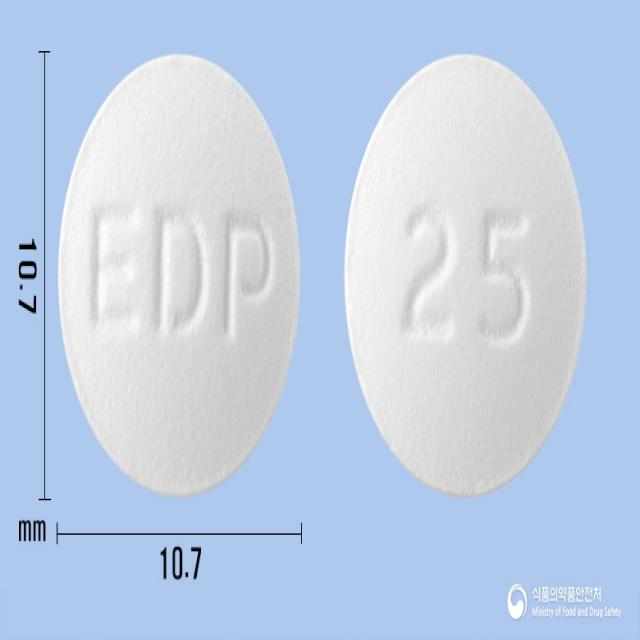Ciflox: (56, 48, 304, 504), (343, 48, 590, 502)
